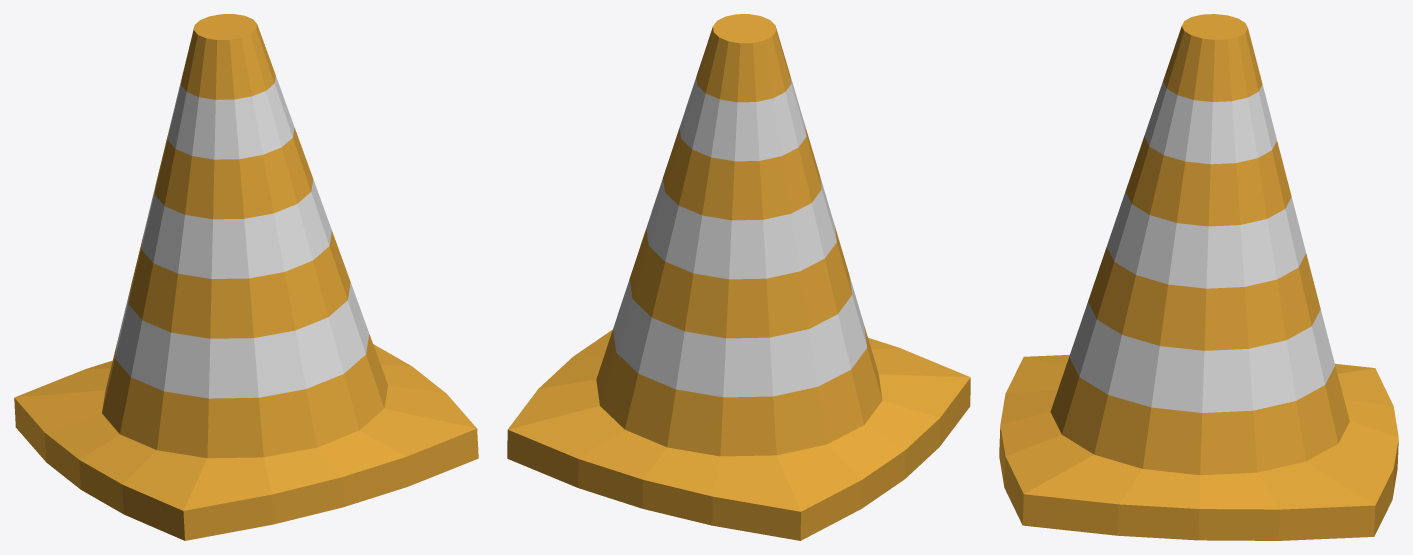
3 views of the same model, side by side, from view 1: azimuth 30°, elevation 25°; view 2: azimuth 150°, elevation 25°; view 3: azimuth 270°, elevation 25° (orthographic). The views are drawn at different scales.
Visible parts, largest first — view 1: Cylinder; view 2: Cylinder; view 3: Cylinder.
Part boxes in pixels (x1,y1,x2,y2): Cylinder: (14, 14, 478, 540); Cylinder: (507, 14, 970, 540); Cylinder: (999, 14, 1398, 540).
Size of the model in its own units: 121 by 147 by 121.
